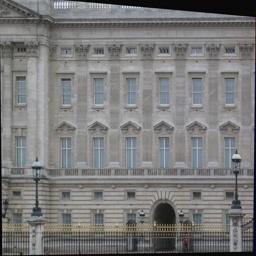building: (0, 2, 256, 256)
